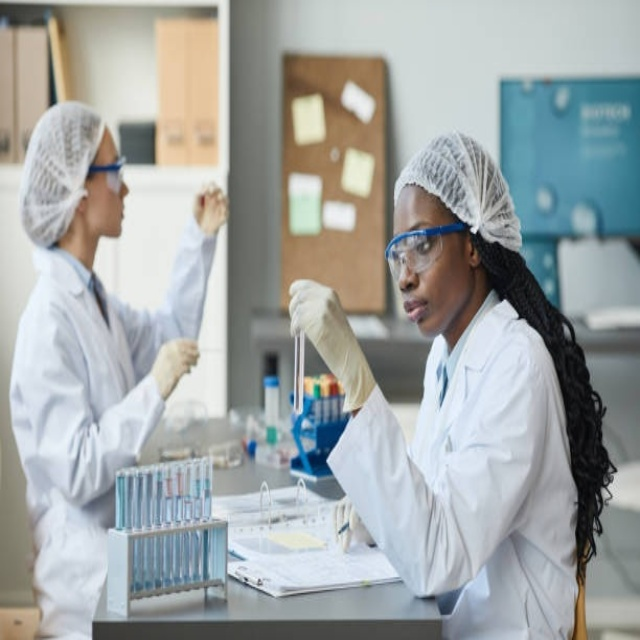Gafas: (385, 223, 469, 281), (87, 156, 128, 194)
Guantes: (288, 280, 378, 414), (151, 337, 200, 401), (334, 497, 372, 554), (193, 182, 229, 236)
Sin_mascara: (402, 289, 440, 336), (99, 195, 128, 237)
